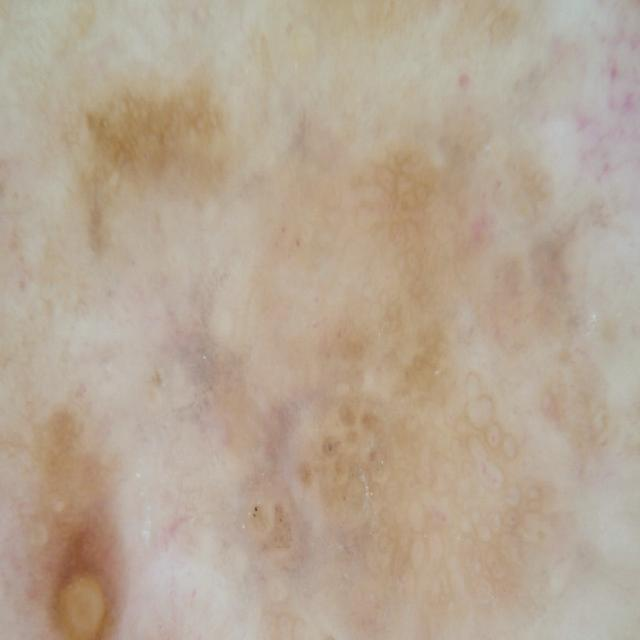Melanoma: (283, 365, 478, 610), (52, 54, 265, 261), (0, 424, 179, 640)
